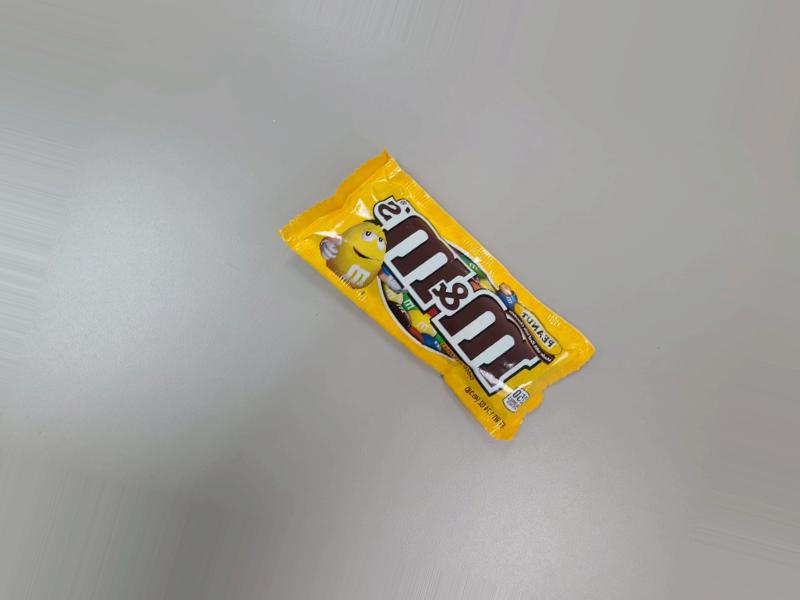m&m: (264, 161, 568, 483)
